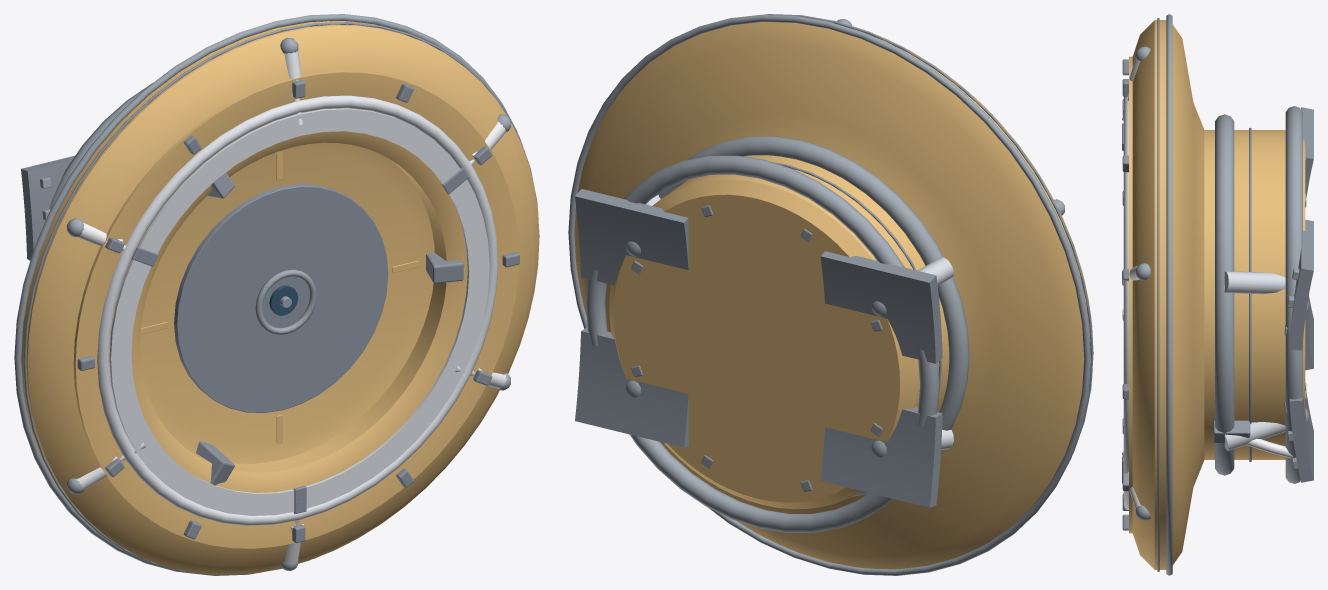
File: dock-standard.glb
3 views of the same model, side by side, from view 1: azimuth 30°, elevation 25°; view 2: azimuth 150°, elevation 25°; view 3: azimuth 270°, elevation 25° (orthographic). The views are drawn at different scales.
Visible parts, largest first — view 1: drum, dock_hatch, capture_ring, interface-ring, dock_stripe, panel_seam_fwd, capture_hooks, hull_saddle:2, dock_hatch_wheel, capture_latches, guide_petal_0, aft_mount_flange (+2 smaller); view 2: drum, aft_mount_flange, dock_stripe, dock_collar, hull_saddle:3, hull_saddle:2, hull_saddle:1, hull_saddle:0, panel_seam_fwd, aft_bolts, panel_seam_trunk; view 3: drum, dock_collar, aft_mount_flange, dock_stripe, interface-ring, hull_saddle:0, panel_seam_fwd, hull_saddle:1, dock_leg:0, capture_hooks, panel_seam_trunk, dock_leg:1 (+4 smaller).
Boxes of the visible parts, x1,y1,x2,y2 form: drum: (21,21,539,575); dock_hatch: (174,184,388,412); capture_ring: (109,108,489,515); interface-ring: (97,95,498,525); dock_stripe: (14,14,518,572); panel_seam_fwd: (23,22,539,575); capture_hooks: (77,80,519,543); hull_saddle:2: (21,155,74,260); dock_hatch_wheel: (255,269,316,334); capture_latches: (131,167,468,513); guide_petal_0: (426,252,463,283); aft_mount_flange: (49,83,152,209); drum: (574,22,1093,569); aft_mount_flange: (586,155,939,532); dock_stripe: (568,14,1090,575); dock_collar: (658,136,969,496); hull_saddle:3: (820,407,942,507); hull_saddle:2: (820,251,942,363); hull_saddle:1: (575,327,688,447); hull_saddle:0: (575,189,688,285); panel_seam_fwd: (764,14,1093,453); aft_bolts: (631,205,882,491); panel_seam_trunk: (665,162,941,393); drum: (1129,20,1305,569); dock_collar: (1215,114,1234,475); aft_mount_flange: (1285,106,1302,483); dock_stripe: (1166,14,1172,575); interface-ring: (1123,96,1128,509); hull_saddle:0: (1289,219,1313,350); panel_seam_fwd: (1157,18,1159,571); hull_saddle:1: (1289,385,1313,482); dock_leg:0: (1224,271,1285,294); capture_hooks: (1122,59,1128,530); panel_seam_trunk: (1249,127,1251,462); dock_leg:1: (1224,422,1285,450).
Bounding box in the file's own units: 3.06 × 3.06 × 1.04.
